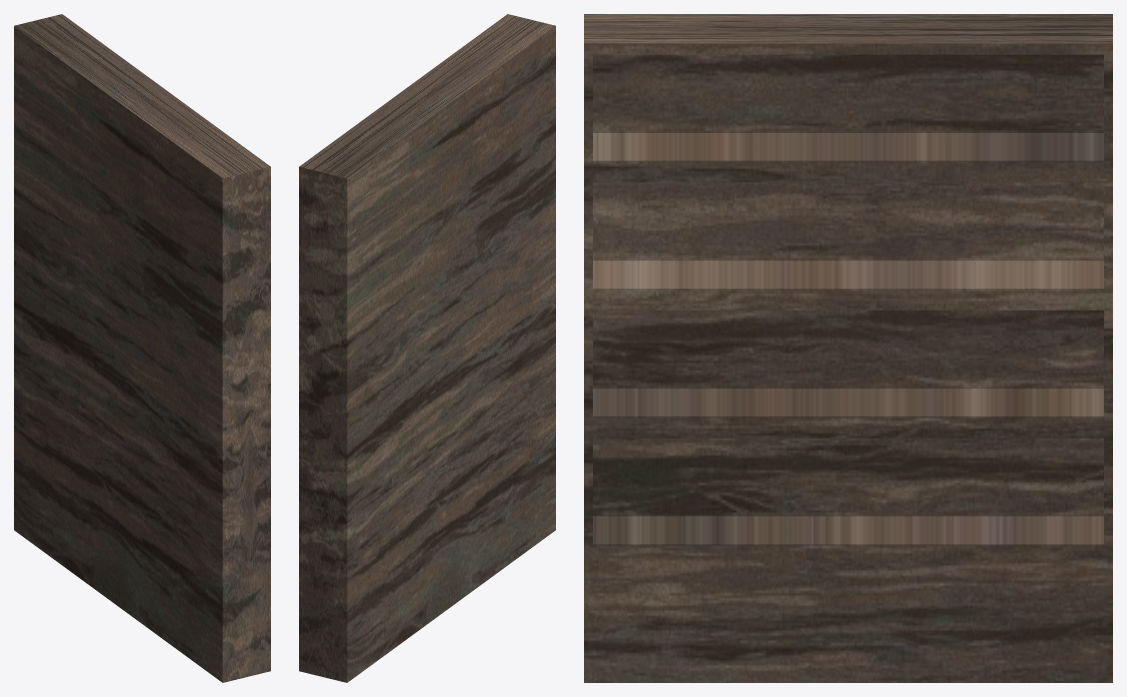
The model's file is EstanteríaFix.fbx.
3 views of the same model, side by side, from view 1: azimuth 30°, elevation 25°; view 2: azimuth 150°, elevation 25°; view 3: azimuth 270°, elevation 25° (orthographic). The views are drawn at different scales.
Parts seen in each view (by area): view 1: Cube; view 2: Cube; view 3: Cube.
Part boxes in pixels (left/top/right/bottom): Cube: left=14, top=14, right=270, bottom=682; Cube: left=299, top=14, right=555, bottom=682; Cube: left=584, top=14, right=1112, bottom=682.
Bounding box in the file's own units: 40 × 400 × 300.
Materials: 1 (1 with a texture image).
